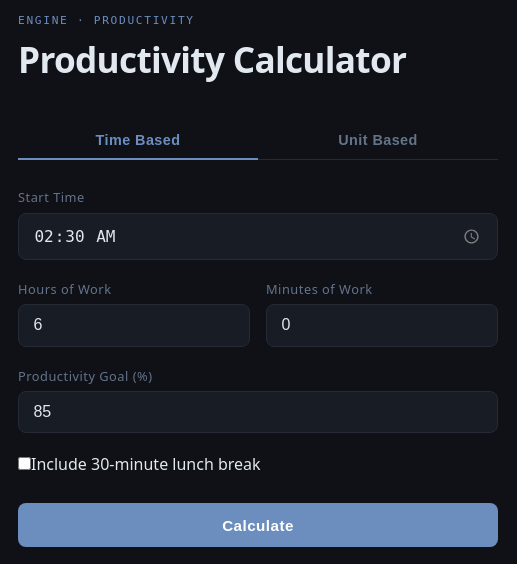
Scenario: CalculatorPage › can switch back to Time Based tab
The image size is (517, 564).
Click the tab "Unit Based". click: (378, 141)
box: 258,121 -> 498,160
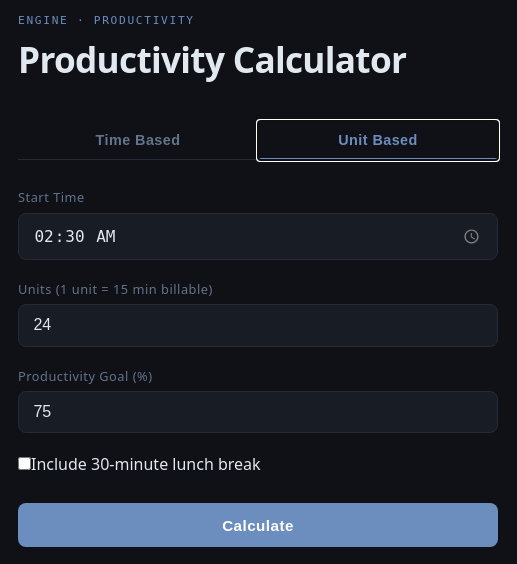
Click the tab "Time Based". click: (138, 141)
box: 18,121 -> 258,160
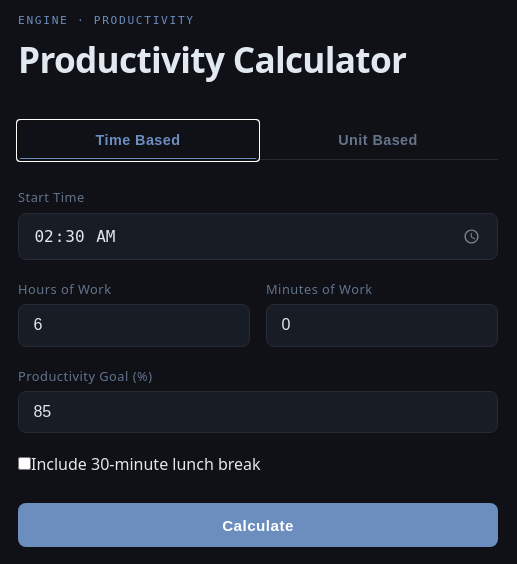
Expected: the number field labelled "Hours of Work" is shown, 18,304 -> 250,346
